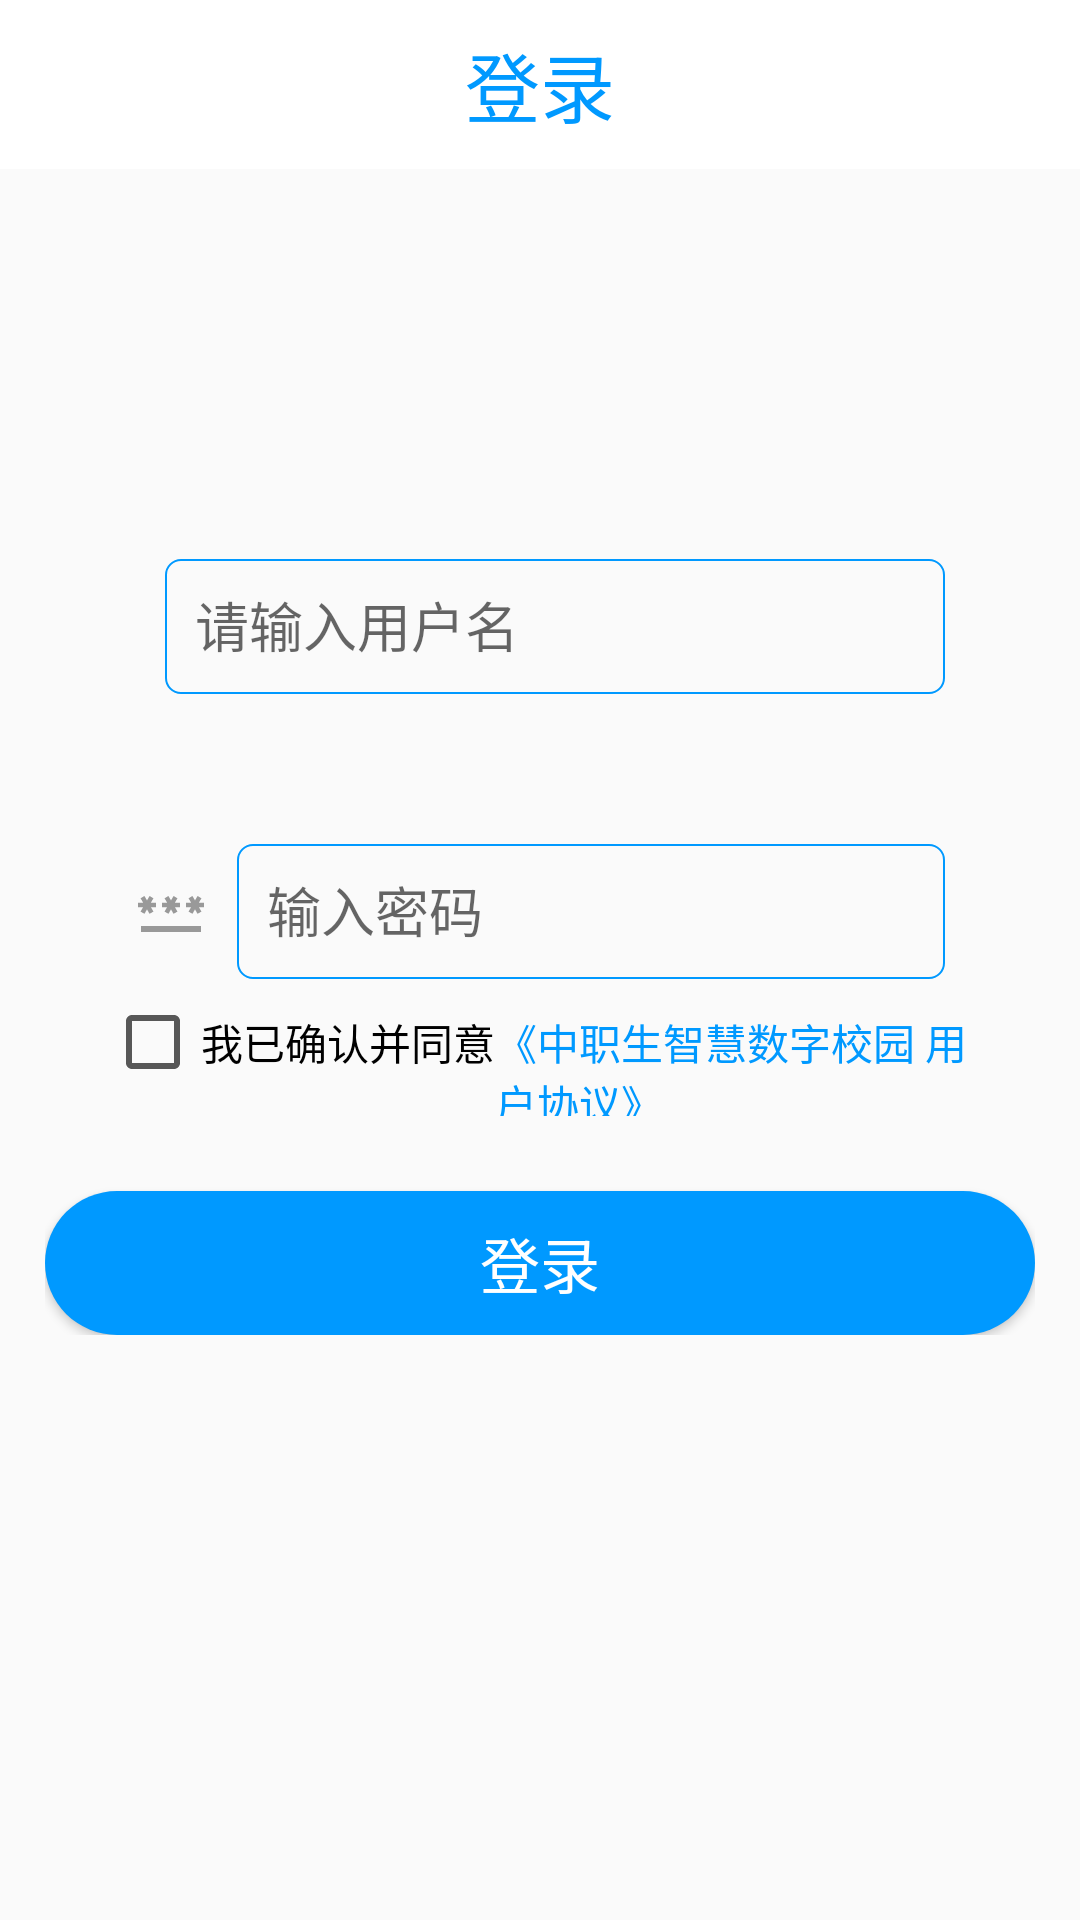

Icon click points for this 1080w x 1920h phone screenshot, format (x,y):
password: (171,914)
